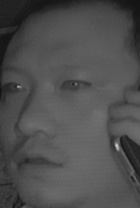eye: (58, 75, 92, 94), (2, 78, 28, 95)
mouth: (10, 146, 68, 181)
